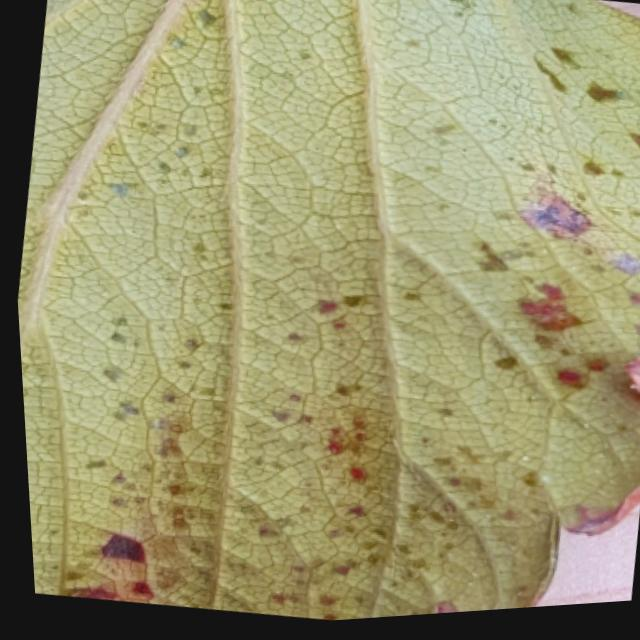Angular Leafspot: (23, 0, 640, 625)
